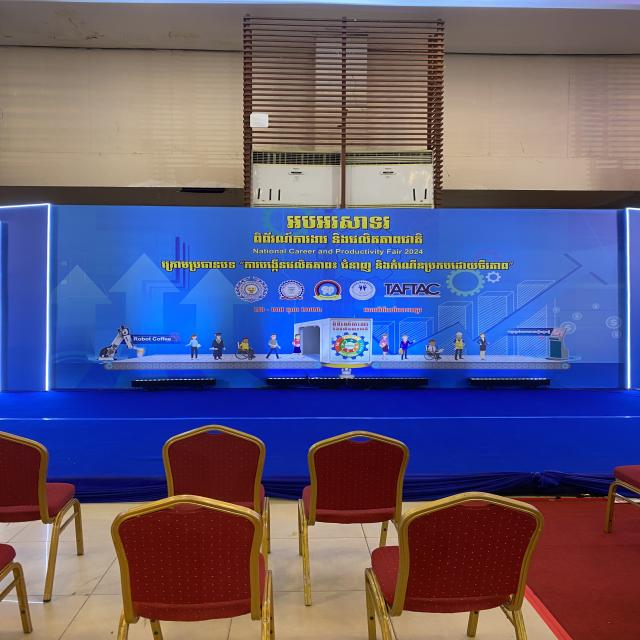Yolov11kh: (157, 258, 517, 273), (246, 231, 427, 247), (278, 212, 401, 232), (251, 304, 327, 314), (362, 304, 426, 315), (506, 328, 553, 335), (332, 320, 370, 327), (332, 326, 369, 332), (403, 248, 425, 256)
